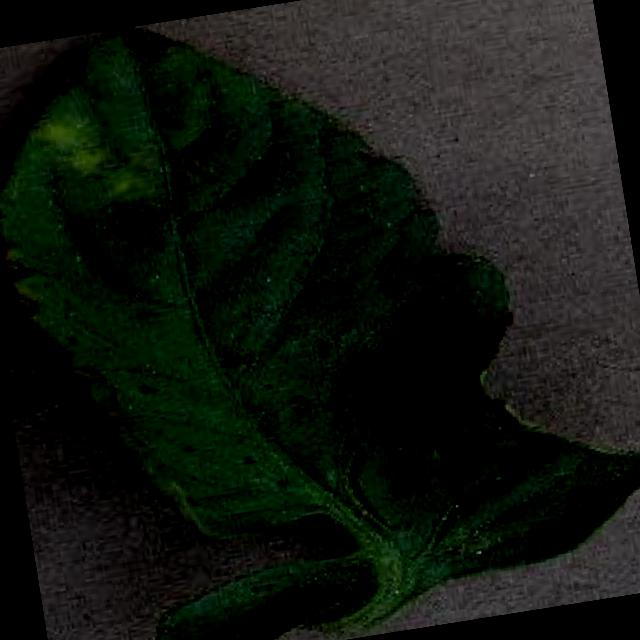bacterial spot: (0, 24, 640, 640)
